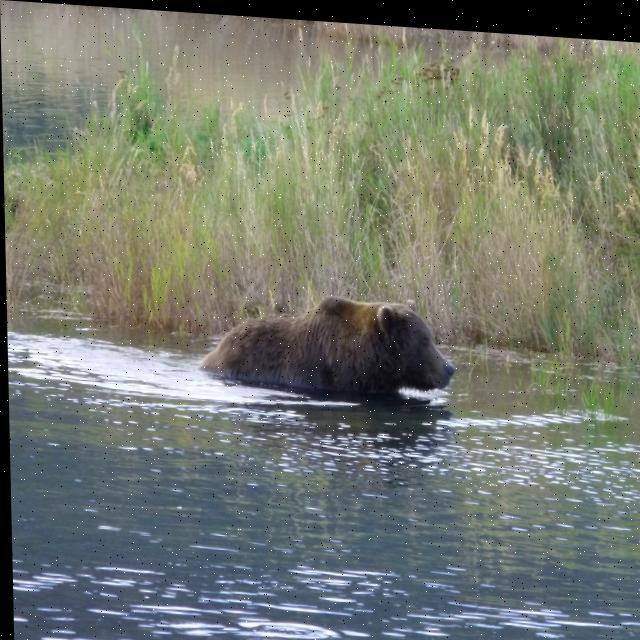bear face: (199, 283, 455, 399)
